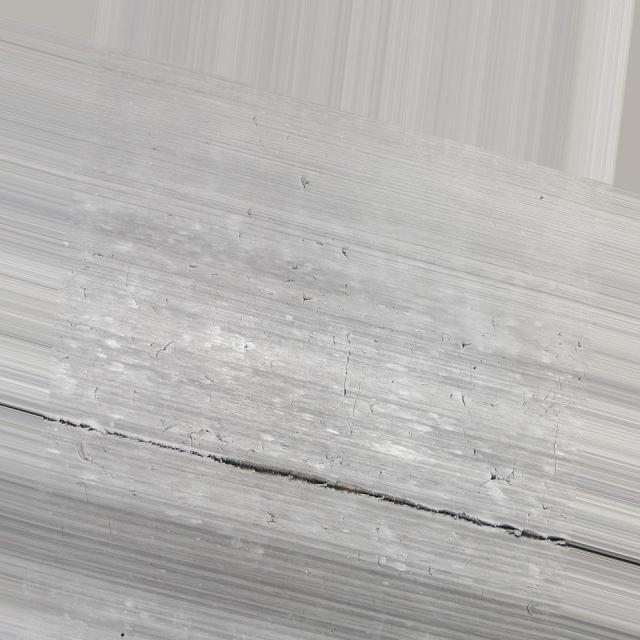Puncture: (461, 343, 471, 351), (490, 473, 496, 479)
Tear: (45, 414, 560, 545)
